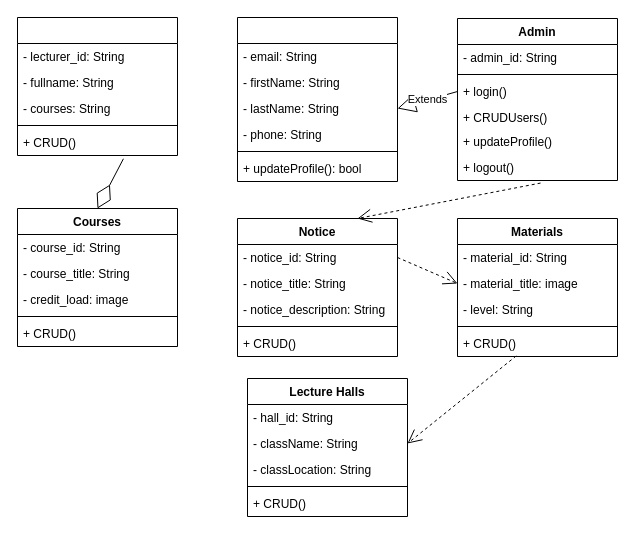
Some shapes in this 635 by 537 pixel diagram are drawn without their labels. The box of each missing label's shape, as (x1, y1, x2, y2) in pixels:
Lecturers: (16, 16, 178, 156)
Users: (236, 16, 398, 182)
